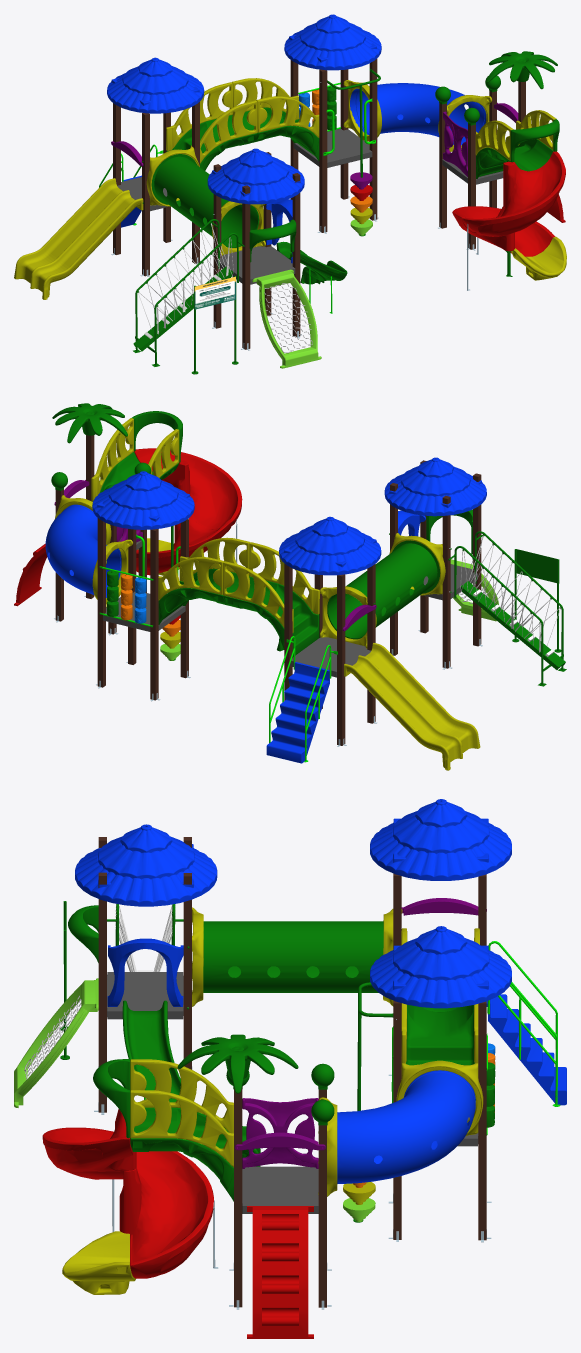
3 views of the same model, one above another, from view 1: azimuth 30°, elevation 25°; view 2: azimuth 150°, elevation 25°; view 3: azimuth 270°, elevation 25° (orthographic). The views are drawn at different scales.
Visible parts, largest first — view 1: object 8, object 12, object 5, object 19, TOLDO M2.002, TOLDO M2, TOLDO M2.001, LATERAL M1, PLATAFORMA M1.008, LATERAL M1.001, PLATAFORMA M1.012, COLUNA MAD PLAST 9 X 9CM.035 (+18 smaller); view 2: object 8, object 5, object 12, TOLDO M2, TOLDO M2.002, TOLDO M2.001, object 19, LATERAL M1.003, LATERAL M1.002, LATERAL M1.001, COLUNA MAD PLAST 9 X 9CM.036, COLUNA MAD PLAST 9 X 9CM.031 (+18 smaller); view 3: object 8, object 5, TOLDO M2.002, TOLDO M2, TOLDO M2.001, object 12, object 19, LATERAL M1.007, PLATAFORMA M1.014, LATERAL M1.006, PLATAFORMA M1.008, COLUNA MAD PLAST 9 X 9CM.034 (+5 smaller).
Part boxes in pixels (x1,y1,x2,y2): object 8: (14, 51, 566, 351); object 12: (133, 146, 332, 368); object 5: (452, 151, 565, 256); object 19: (298, 68, 492, 236); TOLDO M2.002: (284, 14, 381, 70); TOLDO M2: (107, 57, 204, 113); TOLDO M2.001: (207, 148, 304, 204); LATERAL M1: (256, 96, 319, 137); PLATAFORMA M1.008: (216, 246, 295, 284); LATERAL M1.001: (190, 100, 257, 163); PLATAFORMA M1.012: (293, 128, 372, 167); COLUNA MAD PLAST 9 X 9CM.035: (319, 69, 327, 232); object 8: (45, 403, 565, 770); object 5: (14, 448, 242, 606); object 12: (320, 531, 566, 686); TOLDO M2: (279, 516, 381, 575); TOLDO M2.002: (92, 471, 194, 529); TOLDO M2.001: (384, 457, 486, 516); object 19: (54, 495, 180, 660); LATERAL M1.003: (223, 561, 293, 632); LATERAL M1.002: (158, 557, 224, 600); LATERAL M1.001: (249, 542, 319, 614); COLUNA MAD PLAST 9 X 9CM.036: (150, 529, 158, 700); COLUNA MAD PLAST 9 X 9CM.031: (337, 574, 345, 745); object 8: (62, 898, 566, 1294); object 5: (42, 1109, 313, 1338); TOLDO M2.002: (370, 926, 511, 1008); TOLDO M2: (370, 799, 511, 880); TOLDO M2.001: (75, 824, 217, 906); object 12: (14, 904, 402, 1107); object 19: (318, 982, 495, 1222); LATERAL M1.007: (130, 1090, 233, 1167); PLATAFORMA M1.014: (242, 1166, 318, 1213); LATERAL M1.006: (130, 1059, 233, 1133); PLATAFORMA M1.008: (107, 972, 183, 1019); COLUNA MAD PLAST 9 X 9CM.034: (478, 1001, 486, 1240).
Size of the model in its own units: 8.6 by 3.45 by 5.93.
Materials: 42 (2 with a texture image).
